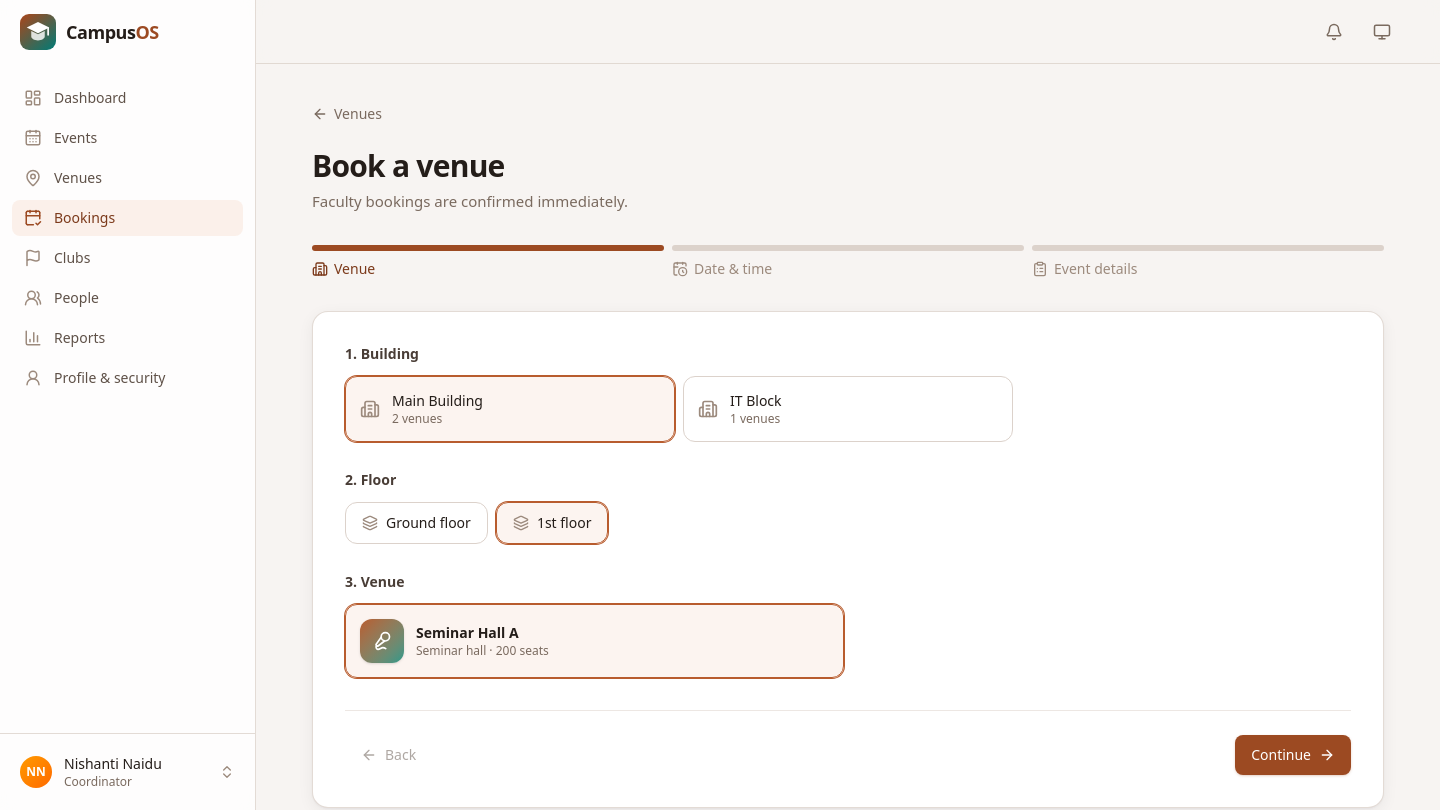
Scenario: booking wizard › prefills the venue and time from the calendar and books directly as faculty
Click the button "Continue": (1293, 754) [1235,734,1351,774]
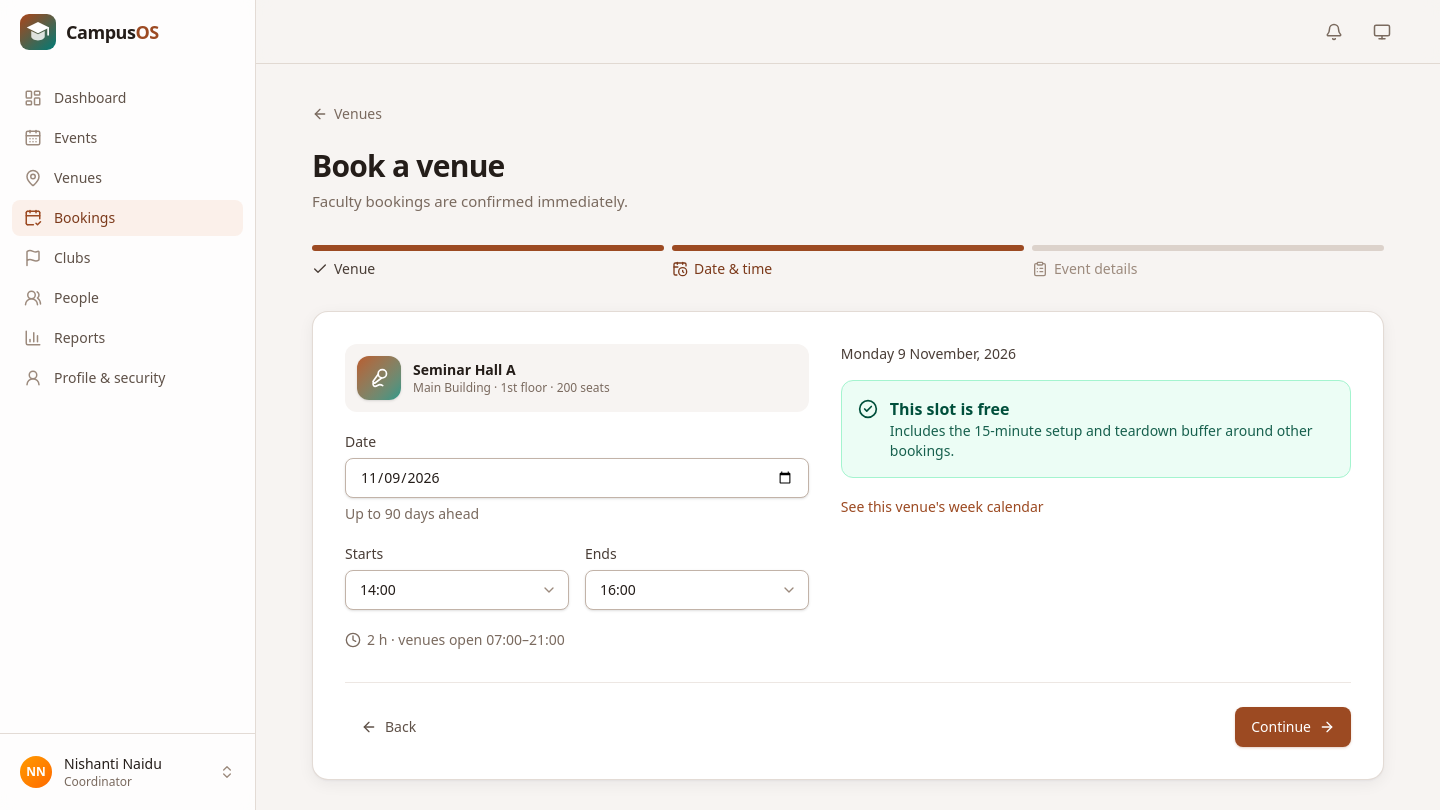
Result: the dropdown labelled "Starts" shows "14:00" at [345,570,569,610]
Result: the dropdown labelled "Ends" shows "16:00" at [585,570,809,610]
Click the button "Continue": (1293, 726) [1235,706,1351,746]
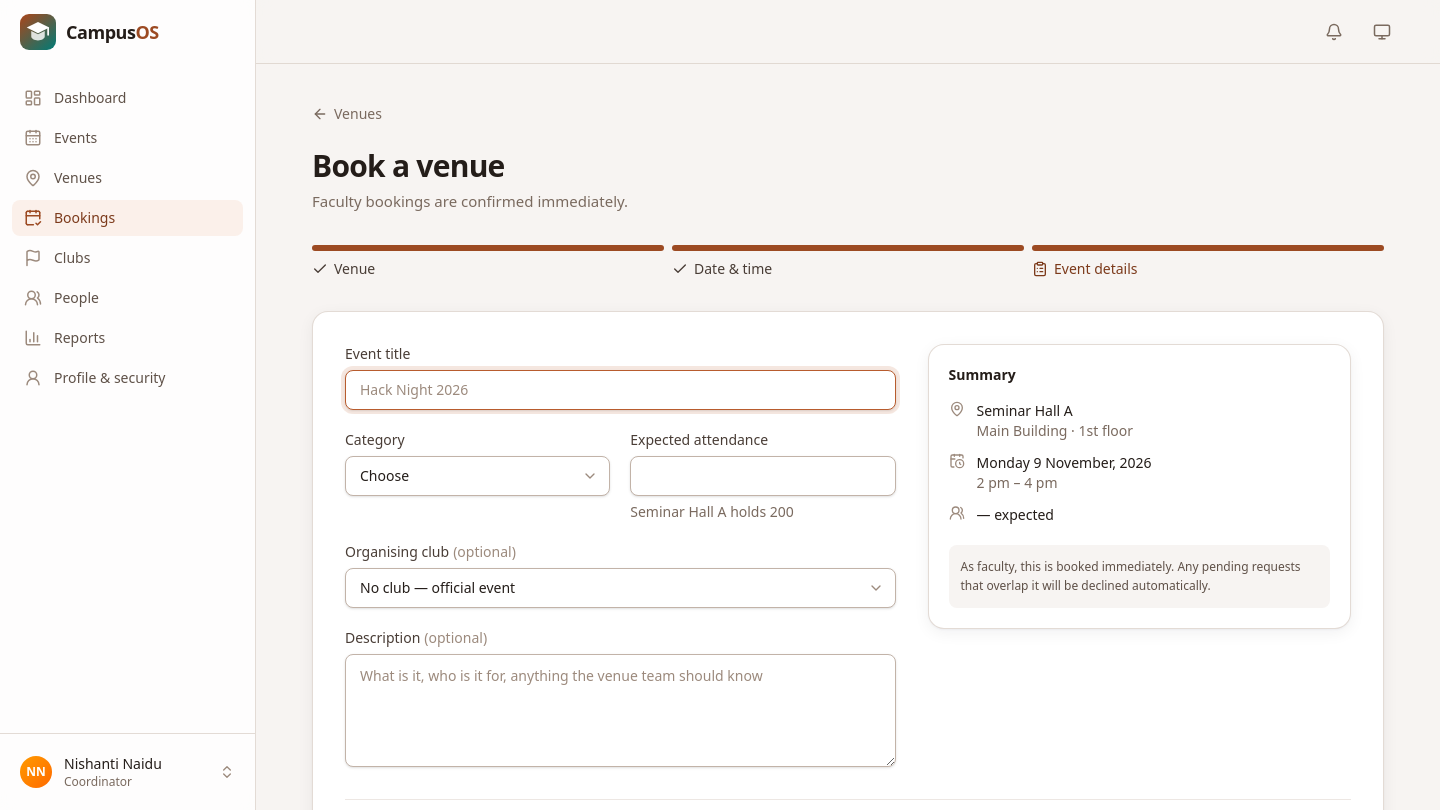
Result: the text "booked immediately" is shown at [960,558,1301,594]
In the field labelled "Event title": (620, 390) [345,370,896,410], type "Board of Studies"
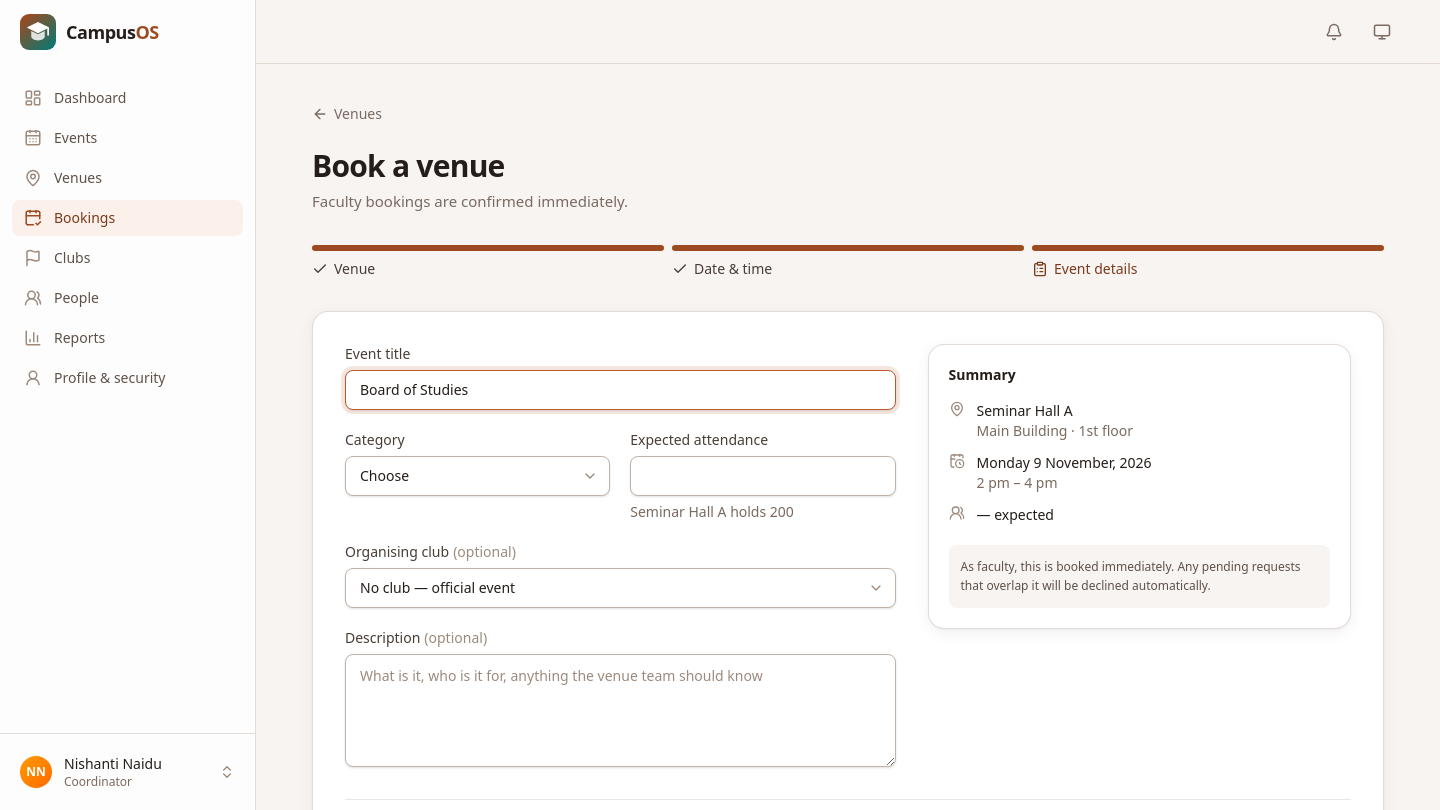
Select "Seminar" in the dropdown labelled "Category": (478, 476) [345,456,610,496]
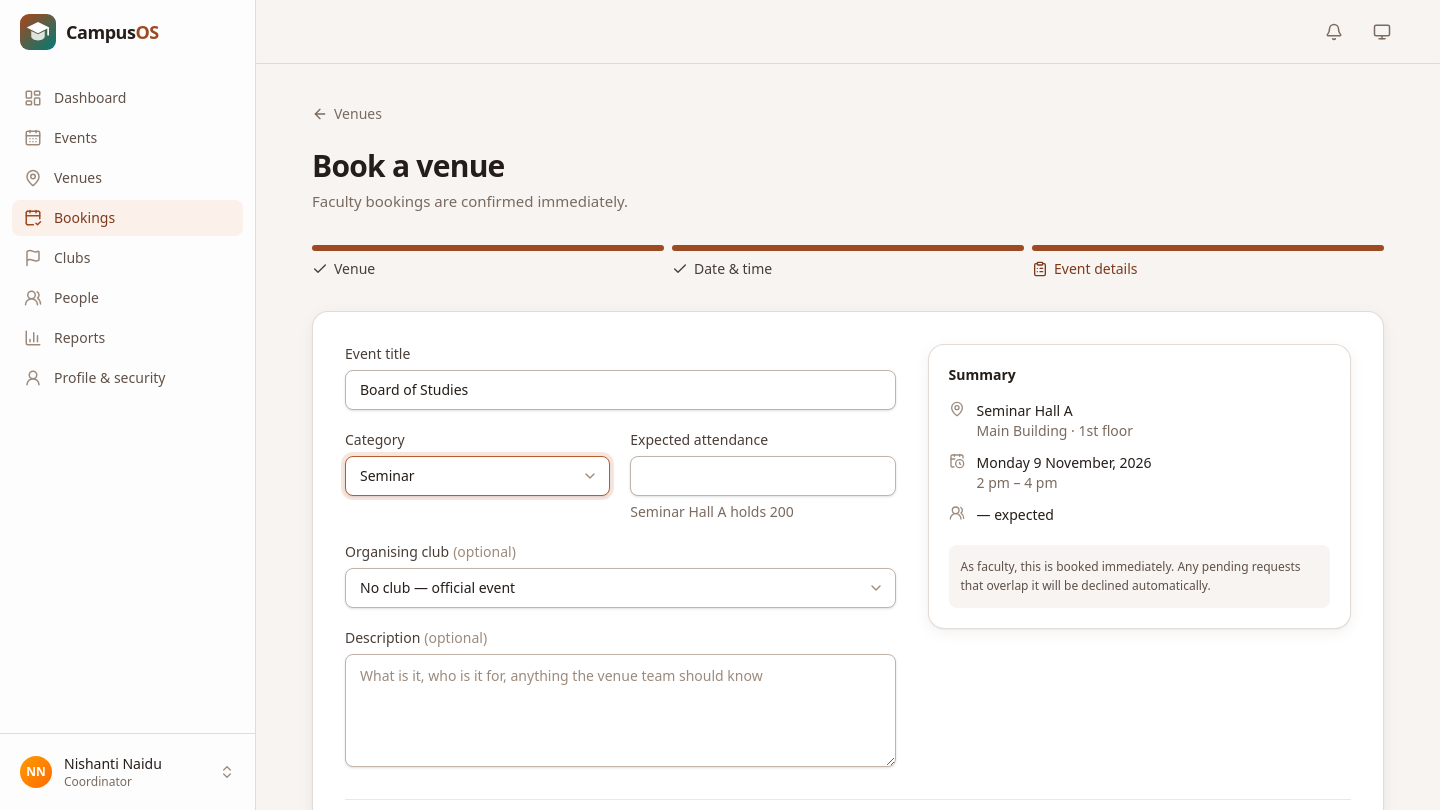
In the number field labelled "Expected attendance": (763, 476) [630,456,896,496], type "40"
(page scrolled)
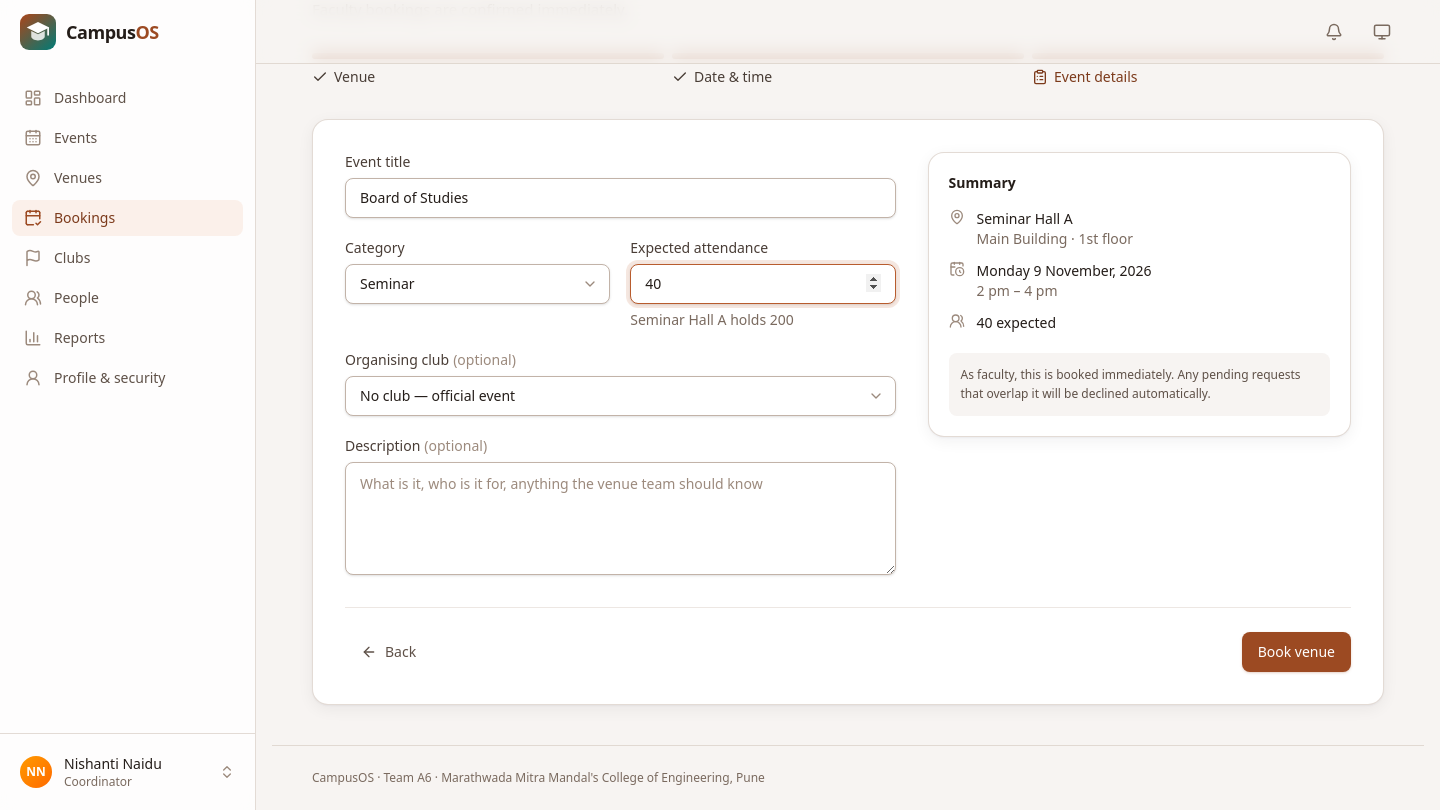
Click the button "Book venue": (1296, 652) [1242,632,1351,672]
(page scrolled)
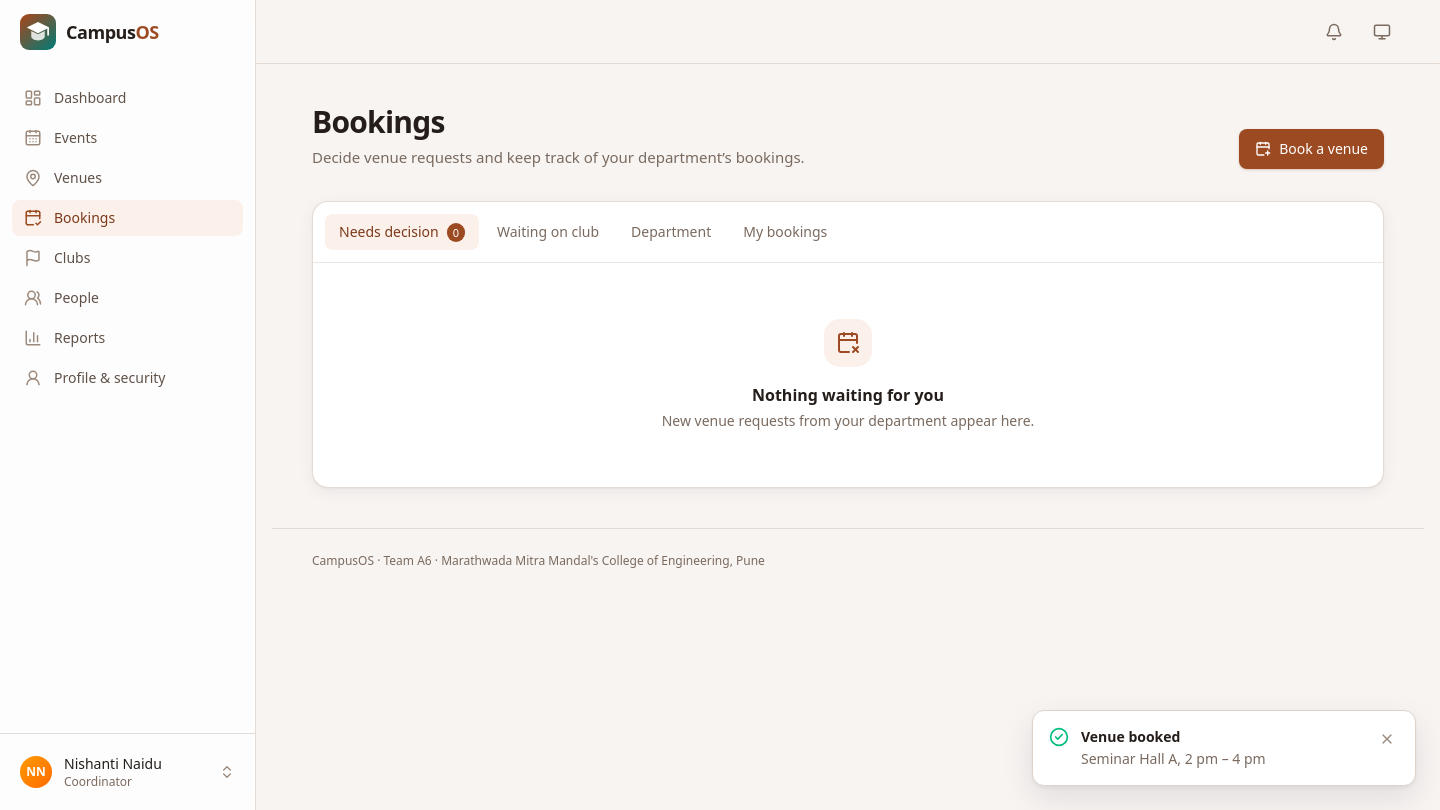
Result: the text "Venue booked" is shown at [1081,727,1180,746]
